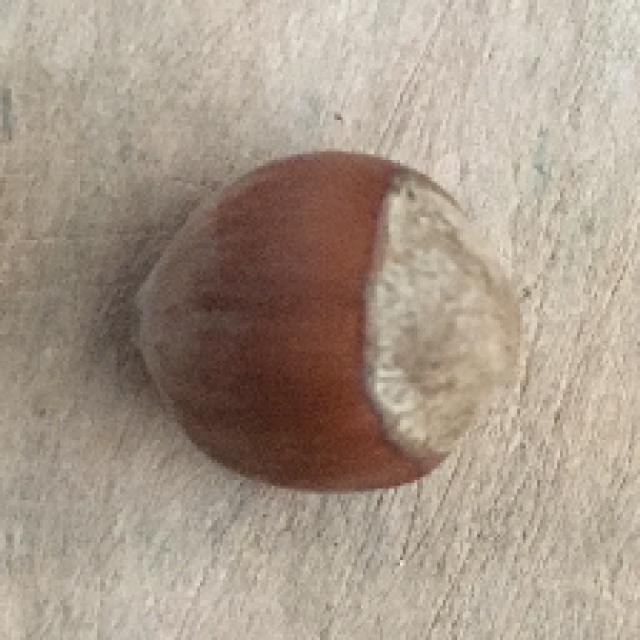qualityHazelnut: (118, 145, 522, 496)
